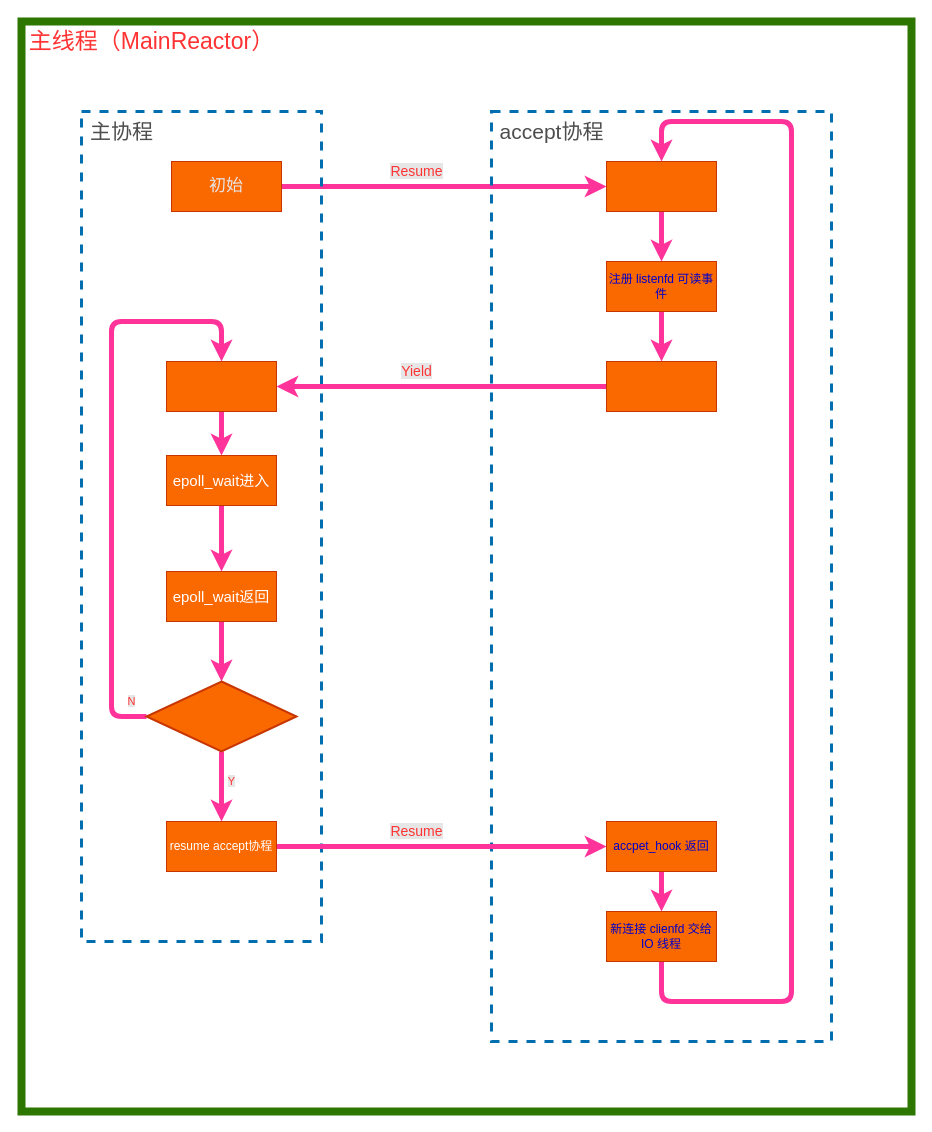
This 932x1132 diagram has some shape labels left out. The shapes that lost their labels are listed below. From the top down, each one's centre as x and y in pixels, then its label:
At point (661, 186): "accpet_hook进入".
At point (221, 386): "开启 loop 循环".
At point (661, 386): "yield 当前协程".
At point (221, 716): "是否 listenfd 发生可读事件？".
